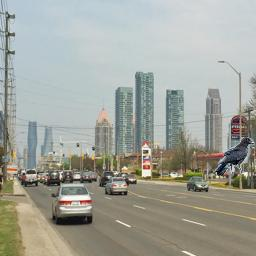Crow: (215, 137, 255, 176)
